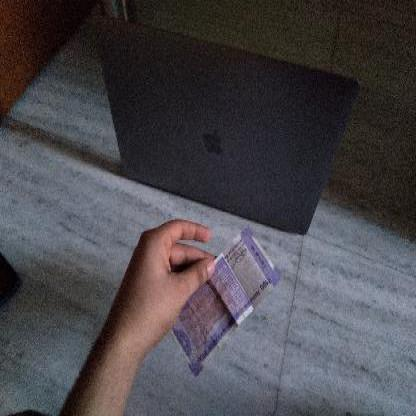New100Back: (174, 226, 274, 369)
